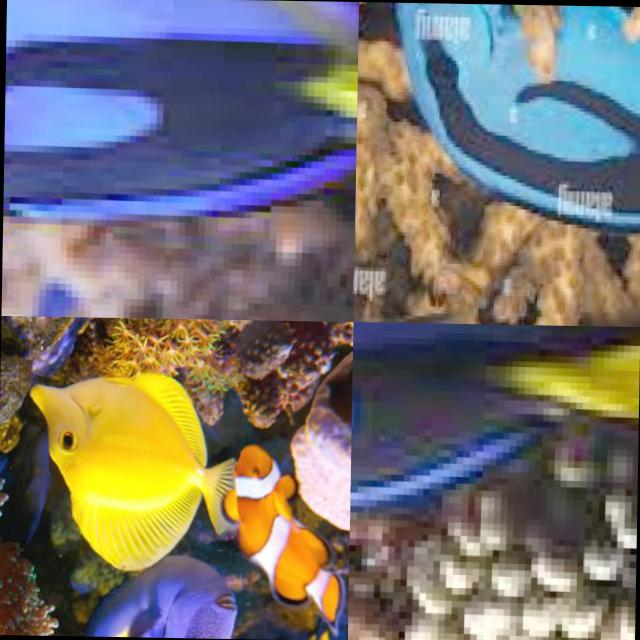BlueTang: (1, 0, 357, 226), (348, 320, 640, 524), (394, 1, 640, 224), (76, 558, 238, 638)
ClownFish: (227, 442, 341, 626)
YellowTang: (24, 365, 230, 572)
